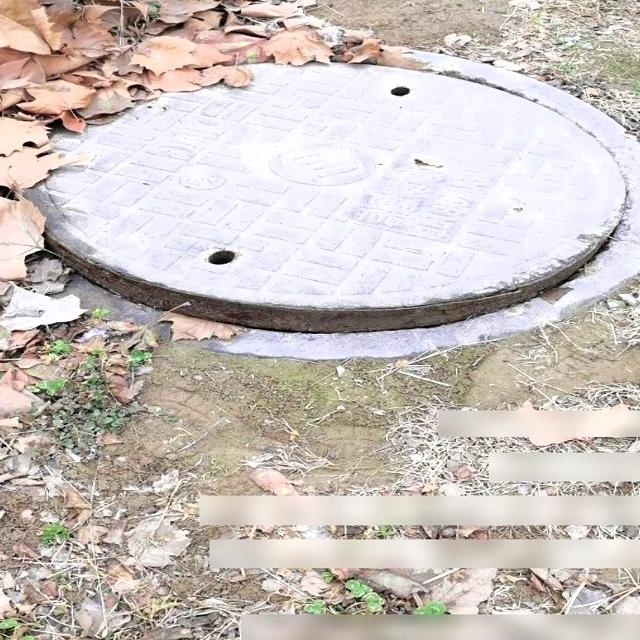uncovered: (0, 41, 637, 338)
